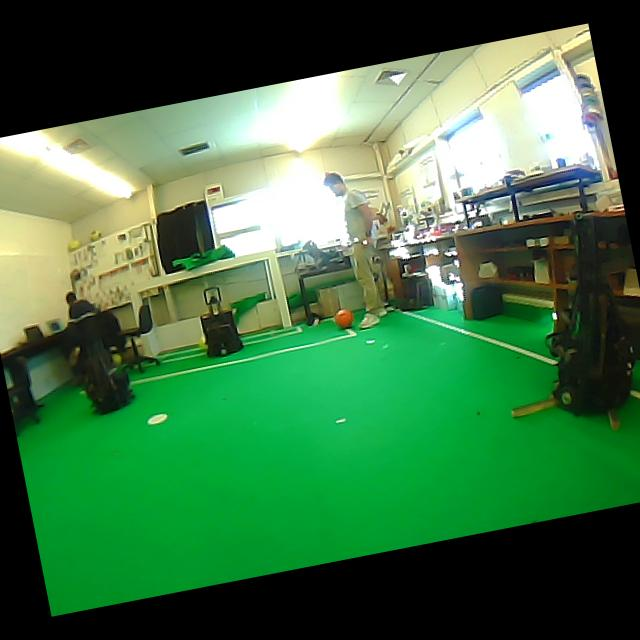ball: (334, 309, 354, 328), (68, 239, 82, 251), (112, 354, 122, 365), (91, 230, 102, 240)
goal: (268, 252, 292, 328)
robot: (548, 215, 635, 415), (84, 351, 135, 415), (200, 286, 242, 356)
